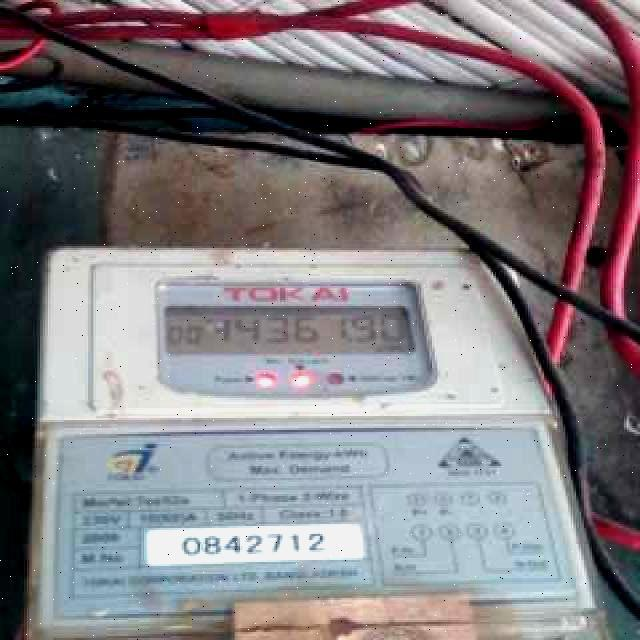LCD: (160, 298, 424, 359)
